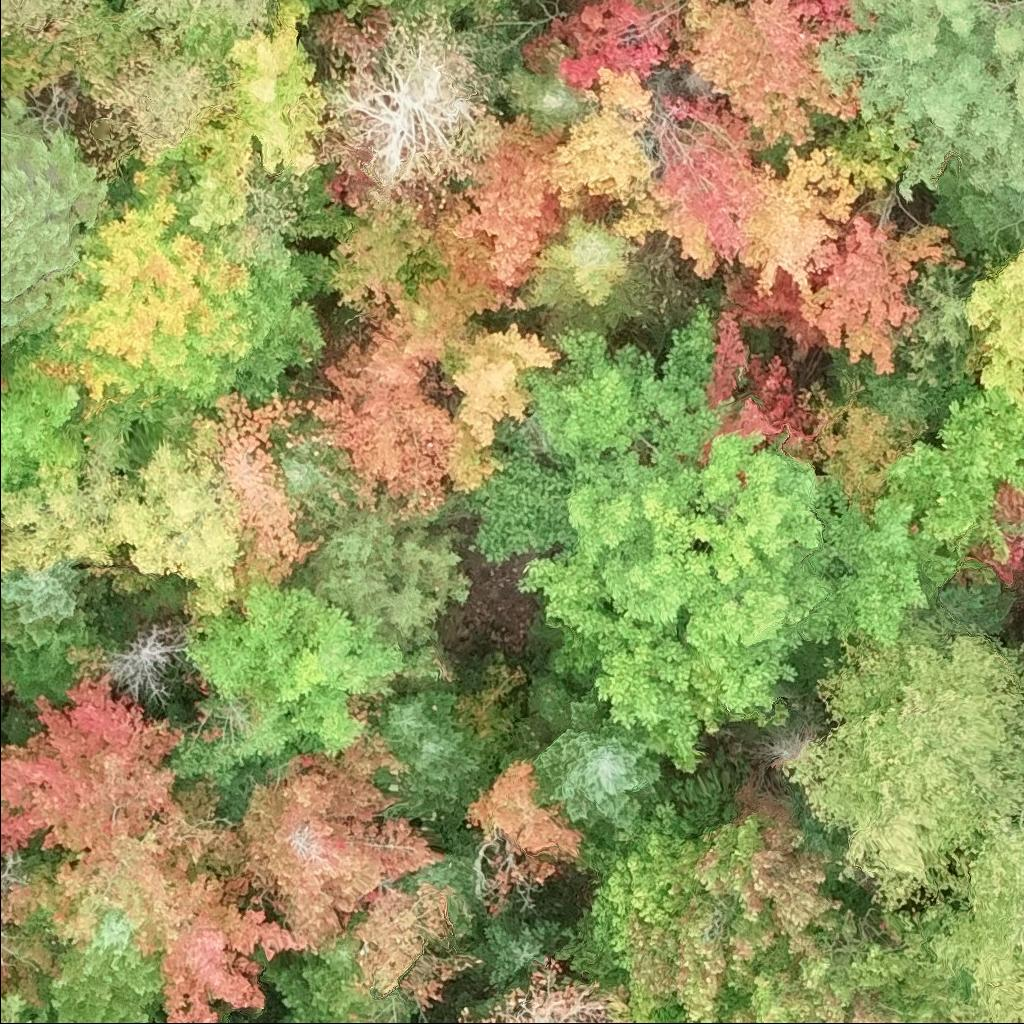crown: (518, 305, 918, 771), (28, 786, 323, 1023), (47, 170, 328, 408), (785, 631, 1023, 909), (321, 272, 552, 520), (584, 804, 840, 1023), (736, 143, 960, 376), (246, 737, 441, 943), (826, 0, 1023, 201), (551, 66, 720, 279), (0, 673, 181, 859), (196, 0, 329, 235), (714, 914, 995, 1023), (670, 0, 857, 148), (0, 98, 109, 346), (881, 383, 1023, 563), (319, 485, 472, 647), (454, 114, 582, 288), (214, 393, 328, 587), (651, 94, 768, 263), (931, 814, 1023, 1023), (709, 309, 827, 451), (356, 879, 478, 1010), (469, 754, 586, 889), (373, 687, 486, 823), (536, 725, 661, 844), (528, 0, 687, 89), (102, 52, 222, 166), (55, 906, 169, 1023), (333, 205, 434, 317), (458, 961, 627, 1023), (0, 605, 102, 703), (0, 358, 76, 486), (970, 258, 1023, 400), (0, 568, 84, 650), (100, 625, 187, 702), (483, 917, 565, 992), (0, 867, 49, 988), (122, 0, 269, 40), (968, 485, 1023, 582), (0, 0, 105, 35), (0, 997, 31, 1023), (658, 1001, 691, 1023), (406, 0, 457, 12), (631, 0, 647, 4), (619, 1022, 621, 1023)
